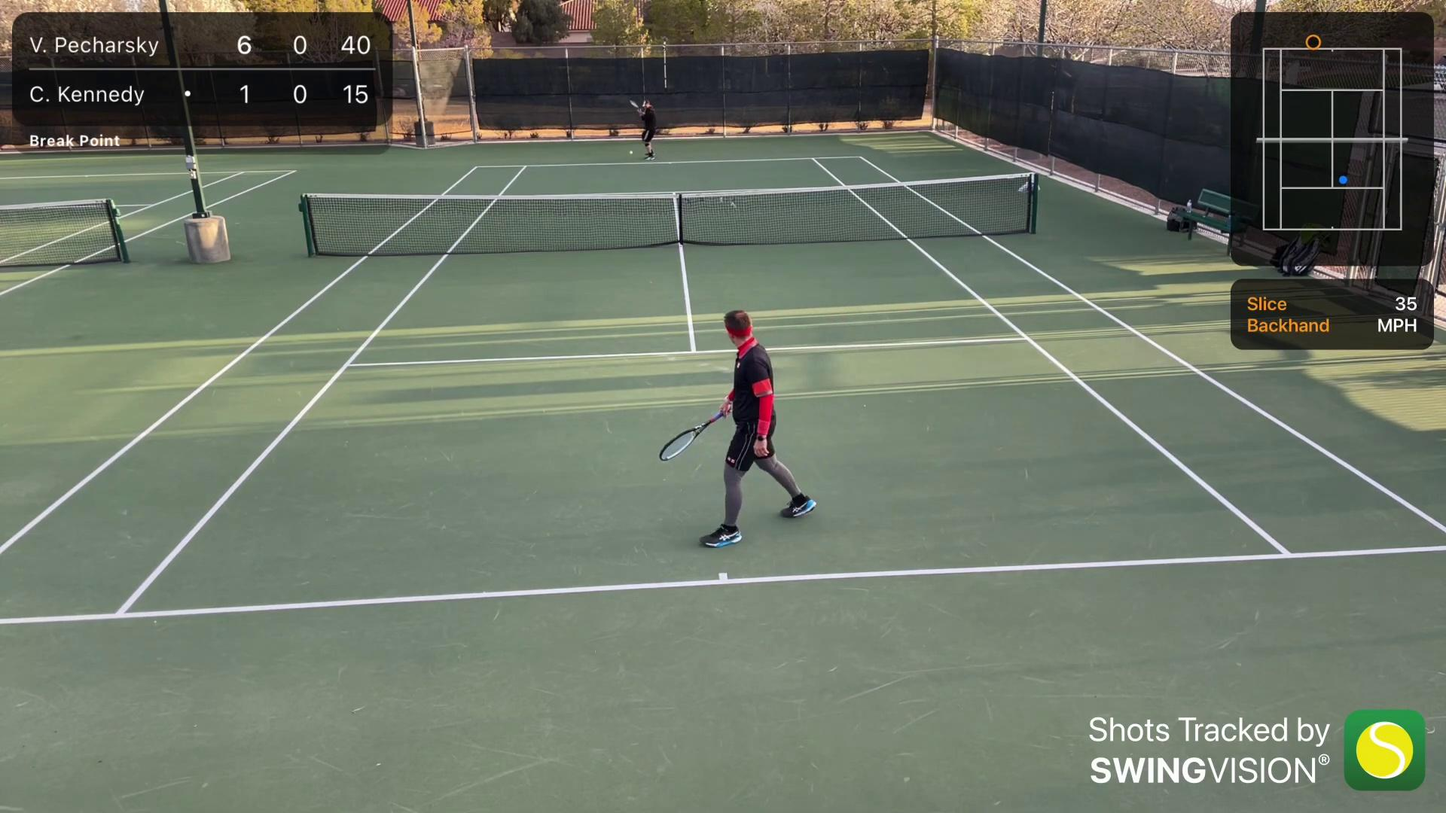ball: (628, 150, 634, 155)
